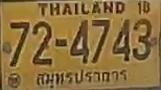2: (32, 20, 51, 64)
3: (132, 18, 152, 59)
4: (69, 19, 88, 62), (112, 18, 130, 61)
7: (9, 21, 29, 66), (91, 19, 109, 62)
SPK: (31, 67, 128, 89)
